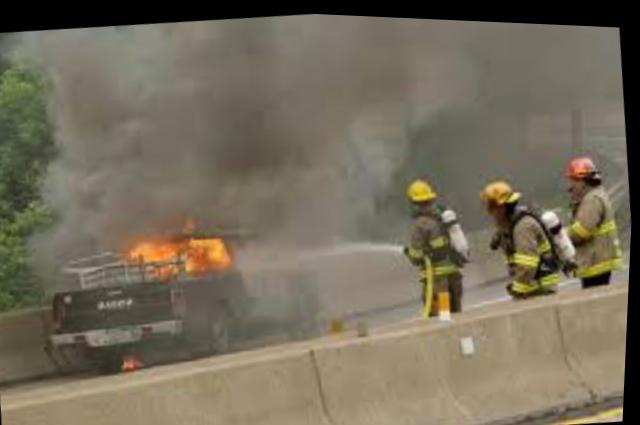fire: (120, 206, 255, 296)
